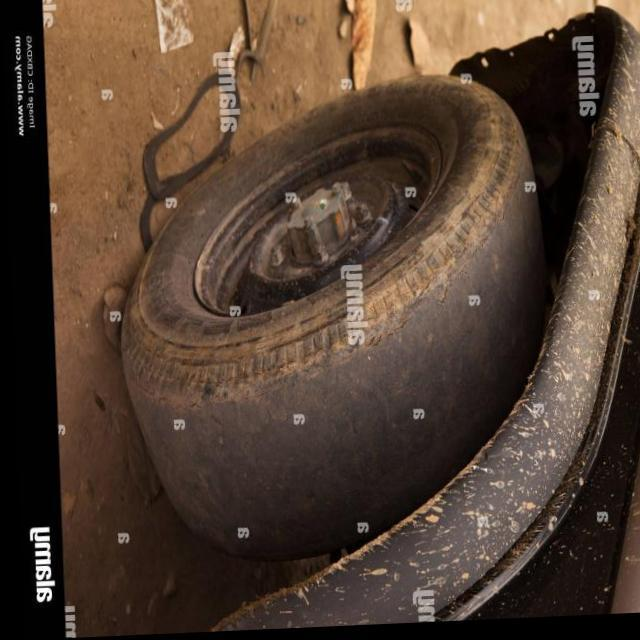Flat spots: (168, 377, 440, 531), (442, 302, 508, 442)
